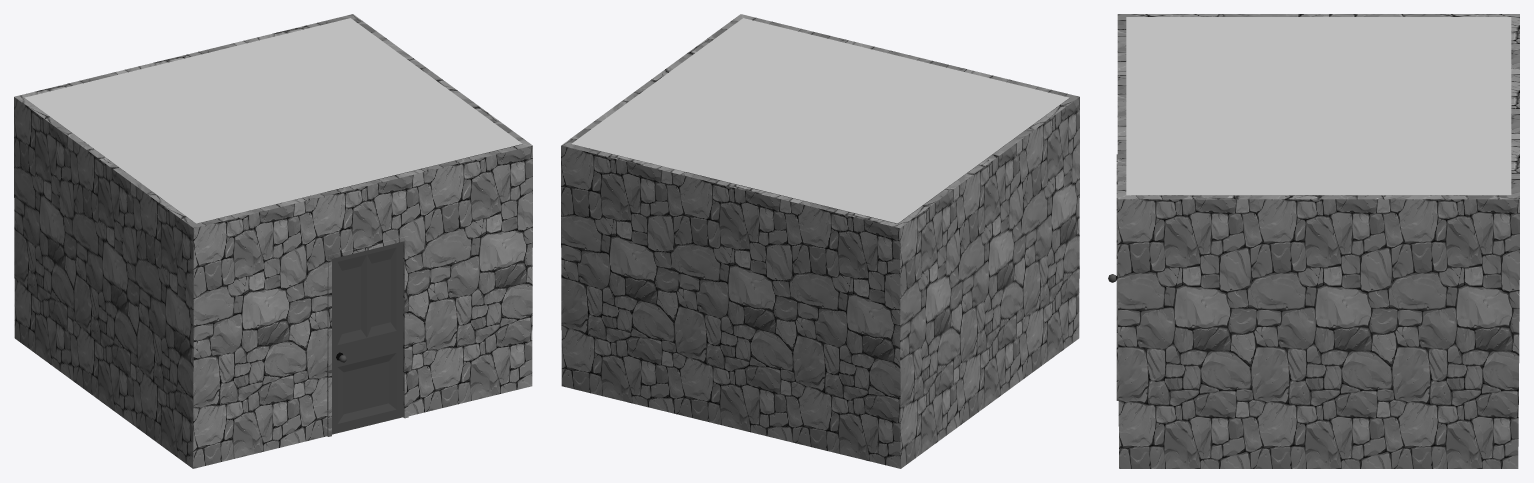
The picture shows the model from 3 angles, left to right: view 1: azimuth 30°, elevation 25°; view 2: azimuth 150°, elevation 25°; view 3: azimuth 270°, elevation 25°; orthographic projection. The views are drawn at different scales.
Parts seen in each view (by area): view 1: obj_base_walls002, obj_base_ceiling003, obj_base_door003; view 2: obj_base_walls002, obj_base_ceiling003; view 3: obj_base_walls002, obj_base_ceiling003.
Boxes of the visible parts, left/top/right/bottom form: obj_base_walls002: left=14, top=14, right=532, bottom=468; obj_base_ceiling003: left=24, top=18, right=522, bottom=223; obj_base_door003: left=332, top=241, right=403, bottom=434; obj_base_walls002: left=561, top=14, right=1079, bottom=468; obj_base_ceiling003: left=571, top=18, right=1069, bottom=223; obj_base_walls002: left=1116, top=14, right=1519, bottom=468; obj_base_ceiling003: left=1126, top=17, right=1511, bottom=195.
Size of the model in its own units: 178 by 121 by 167.
9 materials, 4 textured.
